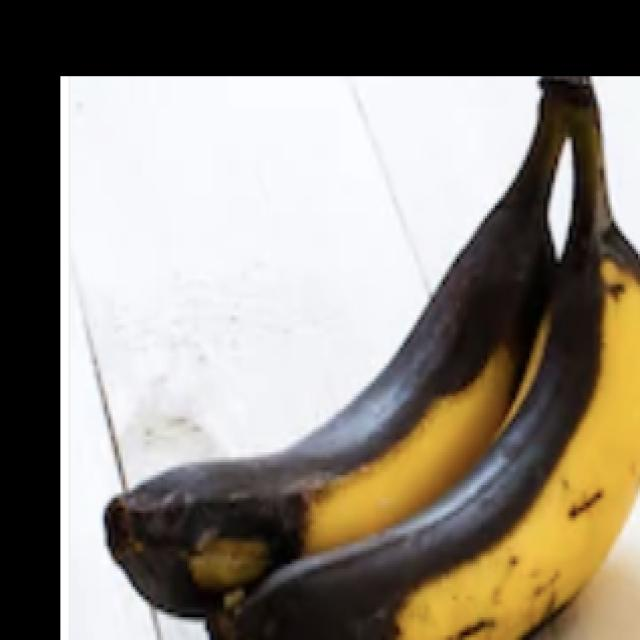banana: (129, 21, 617, 538)
